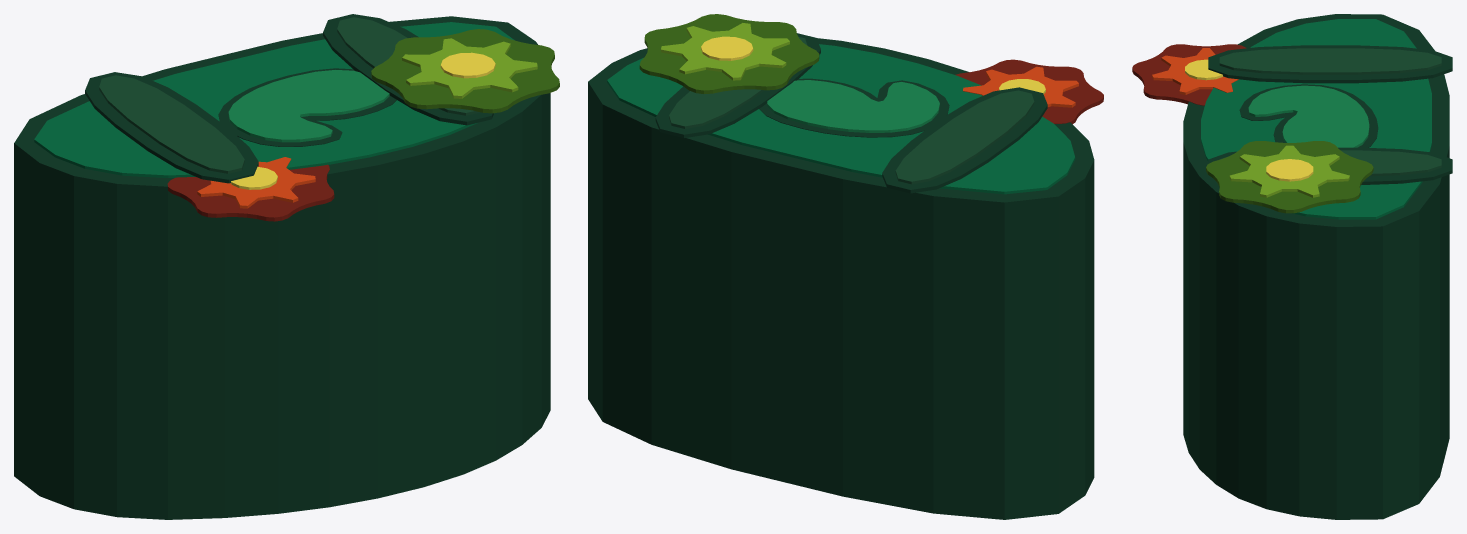
Rendered from bag_tronco_florido.fbx.
3 views of the same model, side by side, from view 1: azimuth 30°, elevation 25°; view 2: azimuth 150°, elevation 25°; view 3: azimuth 270°, elevation 25° (orthographic). The views are drawn at different scales.
Parts seen in each view (by area): view 1: bag_tronco_florido_mochila; view 2: bag_tronco_florido_mochila; view 3: bag_tronco_florido_mochila.
Part boxes in pixels (bbox=[...]): bag_tronco_florido_mochila: bbox=[14, 14, 559, 519]; bag_tronco_florido_mochila: bbox=[588, 14, 1103, 519]; bag_tronco_florido_mochila: bbox=[1132, 14, 1452, 519].
Bounding box in the file's own units: 2.84 × 1.93 × 1.81.
1 material, 1 textured.
